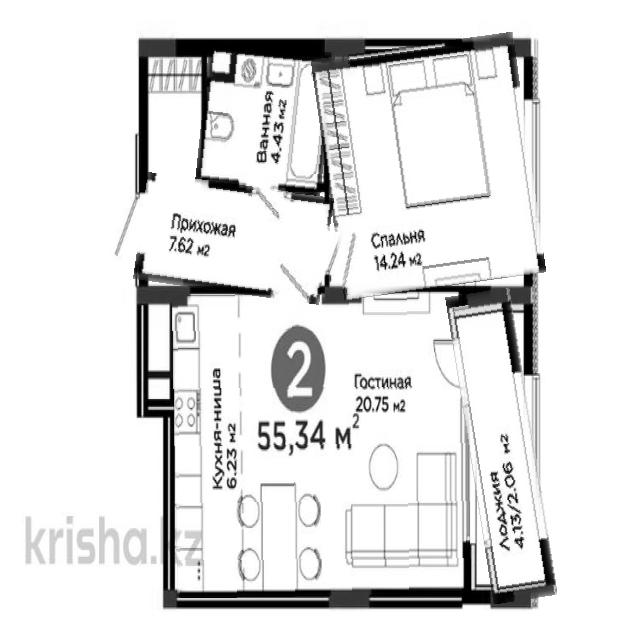balcony: (457, 288, 546, 602)
bathroom: (199, 44, 331, 194)
hallway: (136, 179, 331, 299)
living_room: (319, 37, 539, 294)
studio: (174, 292, 470, 597)
